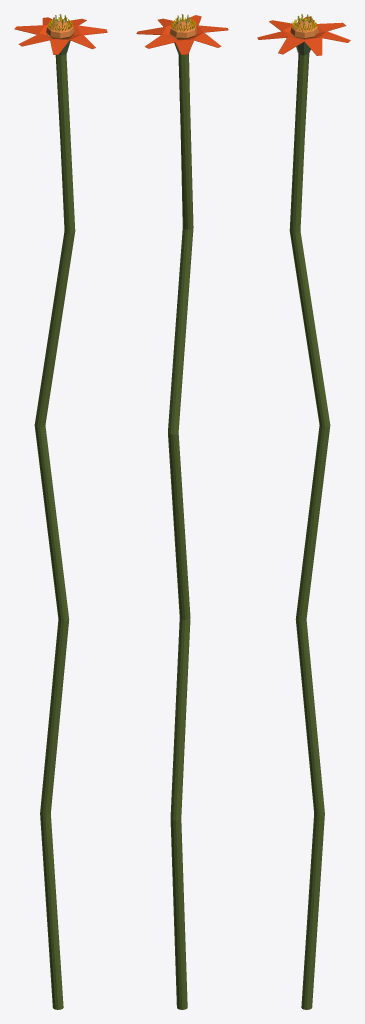
File: Mexican_Sunflower.fbx
The picture shows the model from 3 angles, left to right: view 1: azimuth 90°, elevation 25°; view 2: azimuth 150°, elevation 25°; view 3: azimuth 270°, elevation 25°; orthographic projection.
Parts seen in each view (by area): view 1: Mexican_Sunflower; view 2: Mexican_Sunflower; view 3: Mexican_Sunflower.
Boxes of the visible parts, box(x1,y1,x2,y2) form: Mexican_Sunflower: box(14, 14, 107, 1009); Mexican_Sunflower: box(136, 14, 228, 1009); Mexican_Sunflower: box(257, 14, 350, 1009).
Size of the model in its own units: 636 by 7667 by 655.
